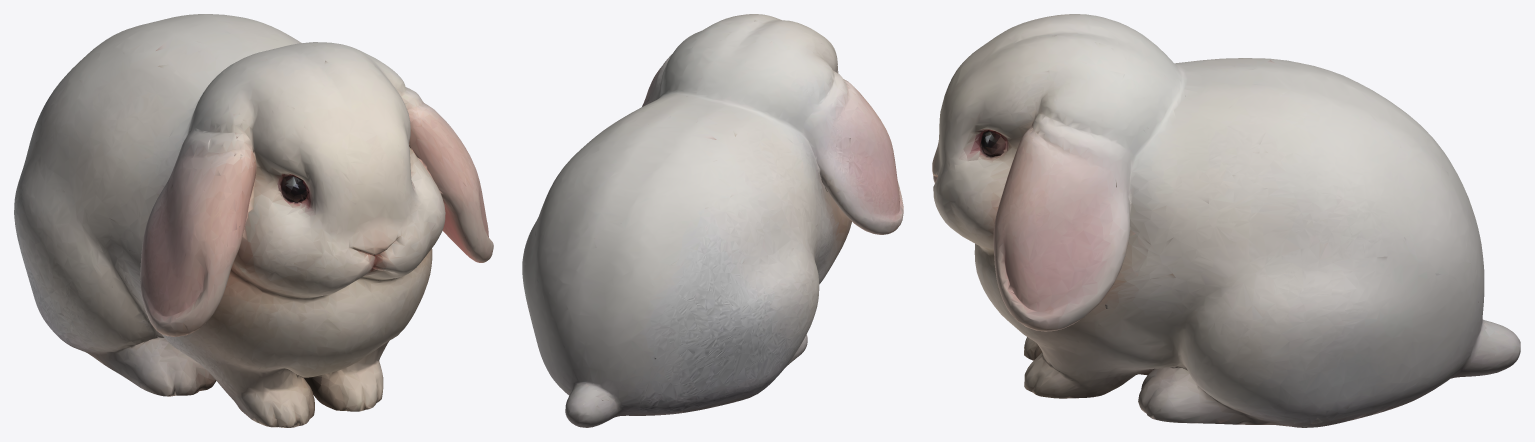
File: pet_rabbit.glb
3 views of the same model, side by side, from view 1: azimuth 30°, elevation 25°; view 2: azimuth 150°, elevation 25°; view 3: azimuth 270°, elevation 25° (orthographic). The views are drawn at different scales.
Visible parts, largest first — view 1: rabbit; view 2: rabbit; view 3: rabbit.
Part boxes in pixels (x1,y1,x2,y2): rabbit: [14, 14, 493, 427]; rabbit: [522, 14, 903, 427]; rabbit: [932, 14, 1520, 427].
Bounding box in the file's own units: 1.01 × 1 × 1.57.
Materials: 1 (1 with a texture image).
